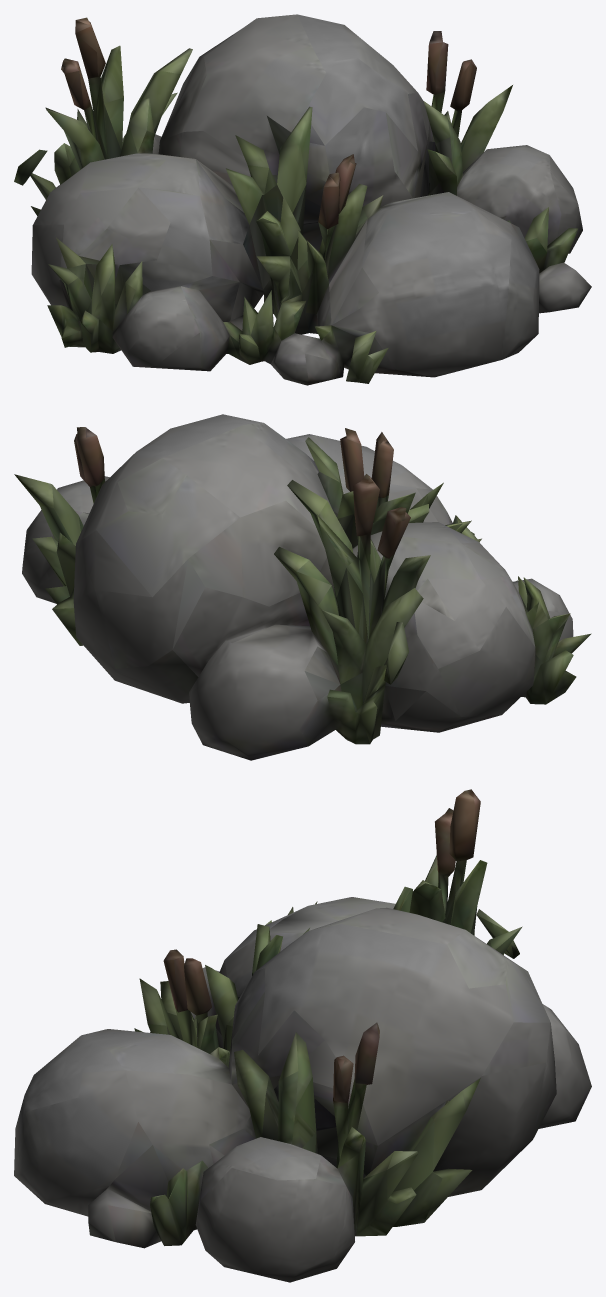
The model's file is bank_rocks.glb.
3 renders of one model, top to bottom at view 1: azimuth 30°, elevation 25°; view 2: azimuth 150°, elevation 25°; view 3: azimuth 270°, elevation 25°, orthographic. The views are drawn at different scales.
Visible parts, largest first — view 1: tripo_node_3e6b7bf8-4d50-4255-97a5-0dfc417b05bf; view 2: tripo_node_3e6b7bf8-4d50-4255-97a5-0dfc417b05bf; view 3: tripo_node_3e6b7bf8-4d50-4255-97a5-0dfc417b05bf.
Part boxes in pixels (x1,y1,x2,y2): tripo_node_3e6b7bf8-4d50-4255-97a5-0dfc417b05bf: [14, 14, 591, 385]; tripo_node_3e6b7bf8-4d50-4255-97a5-0dfc417b05bf: [14, 414, 591, 760]; tripo_node_3e6b7bf8-4d50-4255-97a5-0dfc417b05bf: [14, 789, 591, 1282].
Size of the model in its own units: 0.9813 by 0.4596 by 0.8521.
Materials: 1 (1 with a texture image).
